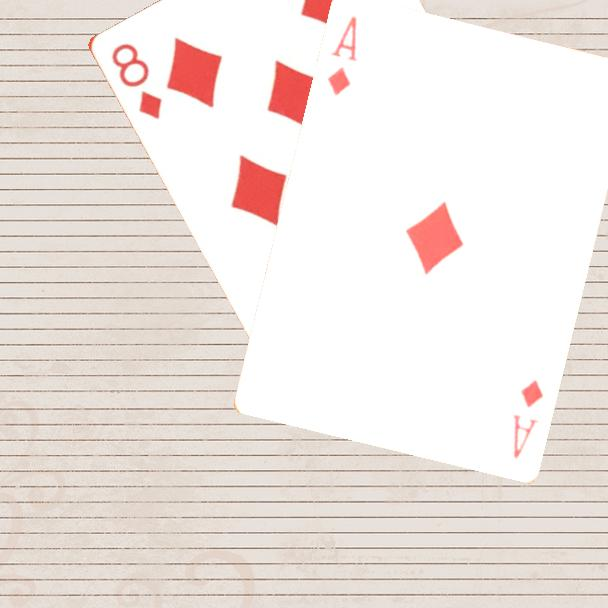d01: (323, 12, 360, 98), (509, 375, 546, 461)
d08: (107, 39, 165, 123)
